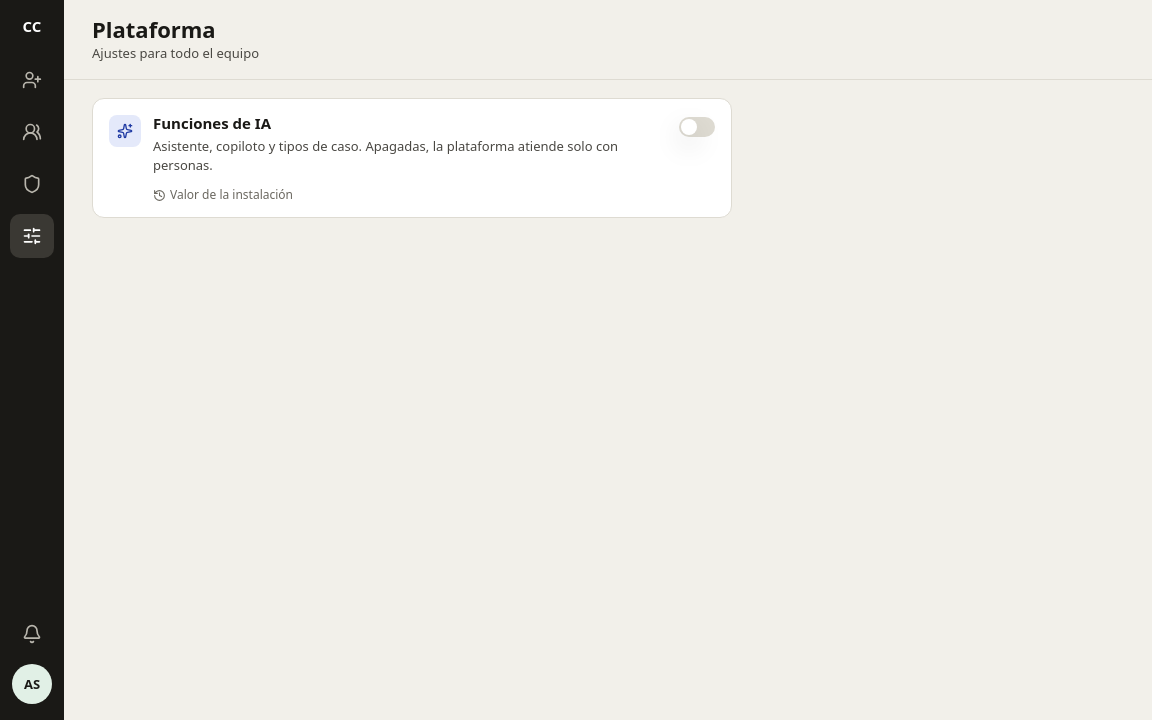
Test: the UI language preference › switches the whole shell to Portuguese from the account menu, without a reload
Expected: the heading "Plataforma" is shown, [92,14,216,44]
Click the button with aria-label "cambiar de rol".
click(32, 684)  # box [12,664,52,704]
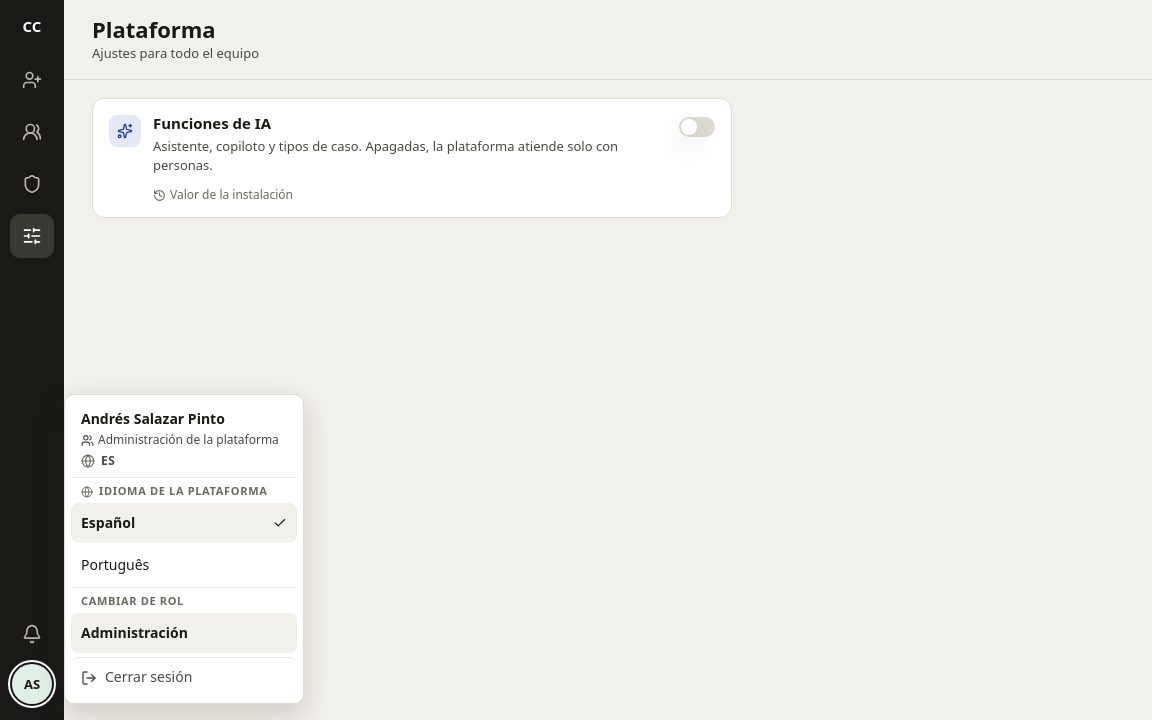
Expected: the buttons read "Español", "Português", in this order
Click the button "Português".
click(184, 565)  # box [71,545,297,585]
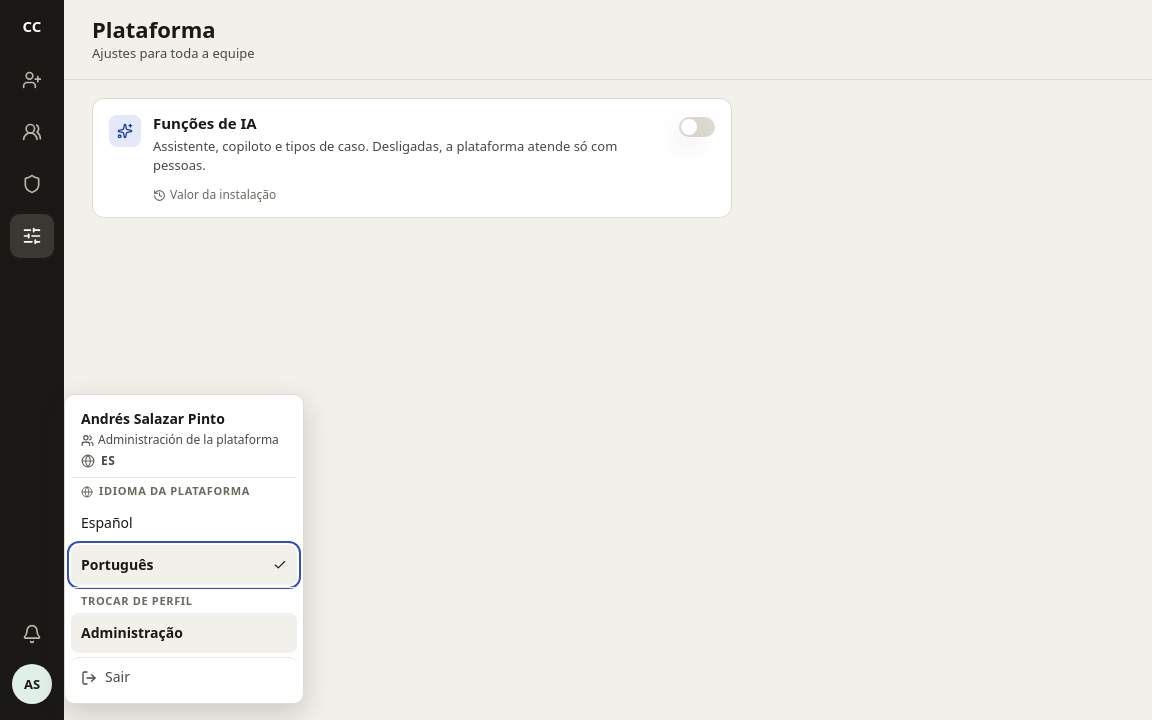
Expected: the list named "Idioma da plataforma" is shown, [71,503,297,585]
Expected: the list named "Trocar de perfil" is shown, [71,613,297,653]
Expected: the text "Ajustes para toda a equipe" is shown, [92,44,255,63]
